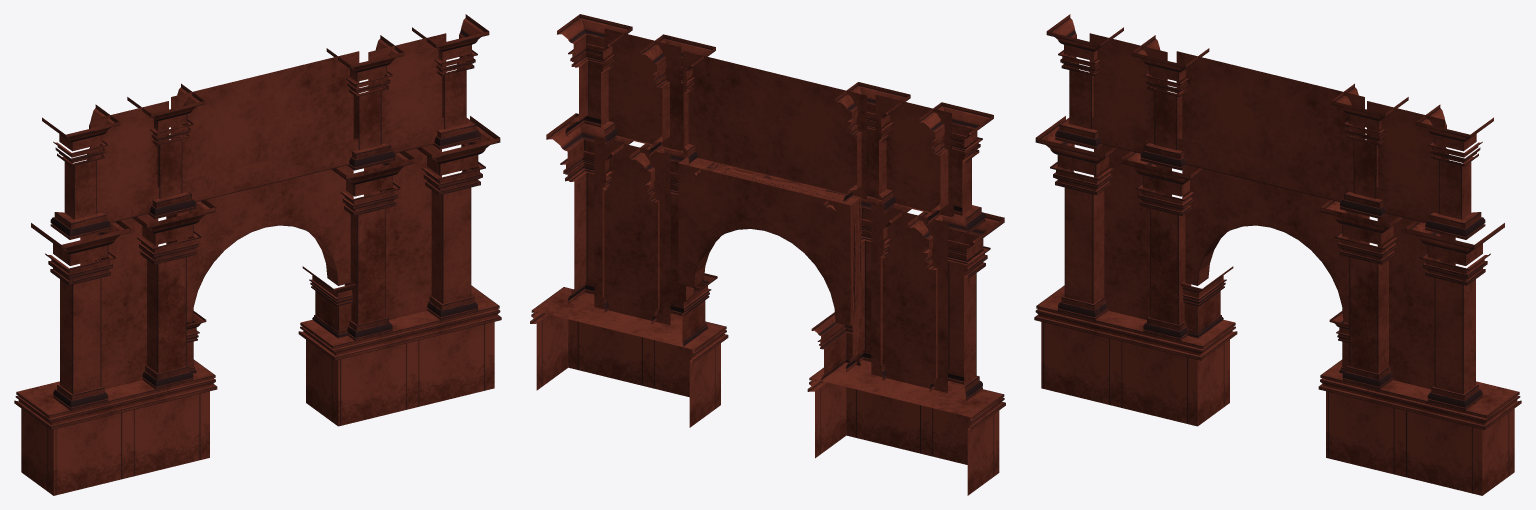
File: Arch fracture full.fbx
3 renders of one model, left to right at view 1: azimuth 30°, elevation 25°; view 2: azimuth 150°, elevation 25°; view 3: azimuth 330°, elevation 25°, orthographic. The views are drawn at different scales.
Parts seen in each view (by area): view 1: arch1, Object_Part_7, Object_Part_17, Object_Part_2, Object_Part_12, Object_Part_5, Object_Part_11, Object_Part_9; view 2: arch1, Object_Part_7, Object_Part_12, Object_Part_18, Object_Part_15, Object_Part_14, Object_Part_20, Object_Part_9, Object_Part_1, Object_Part_10, Object_Part_19, Object_Part_16 (+2 smaller); view 3: arch1, Object_Part_12, Object_Part_7, Object_Part_17, Object_Part_5, Object_Part_18, Object_Part_11, Object_Part_9.
Part boxes in pixels (<box>): arch1: <box>14,14,501,495</box>; Object_Part_7: <box>309,210,350,285</box>; Object_Part_17: <box>232,185,267,234</box>; Object_Part_2: <box>314,167,345,210</box>; Object_Part_12: <box>166,242,225,288</box>; Object_Part_5: <box>265,188,314,219</box>; Object_Part_11: <box>200,206,225,246</box>; Object_Part_9: <box>223,205,247,248</box>; arch1: <box>530,14,1005,495</box>; Object_Part_7: <box>678,215,720,287</box>; Object_Part_12: <box>803,242,861,290</box>; Object_Part_18: <box>829,267,861,325</box>; Object_Part_15: <box>820,204,861,251</box>; Object_Part_14: <box>702,163,736,213</box>; Object_Part_20: <box>736,178,771,230</box>; Object_Part_9: <box>769,199,805,251</box>; Object_Part_1: <box>678,156,702,216</box>; Object_Part_10: <box>685,203,729,240</box>; Object_Part_19: <box>724,166,772,197</box>; Object_Part_16: <box>832,192,861,237</box>; arch1: <box>1034,14,1521,495</box>; Object_Part_12: <box>1185,206,1231,256</box>; Object_Part_7: <box>1314,243,1349,322</box>; Object_Part_17: <box>1237,179,1272,226</box>; Object_Part_5: <box>1271,200,1319,236</box>; Object_Part_18: <box>1185,233,1214,285</box>; Object_Part_11: <box>1206,185,1230,225</box>; Object_Part_9: <box>1228,188,1252,229</box>.
Bounding box in the file's own units: 27.6 × 21.16 × 4.45.
